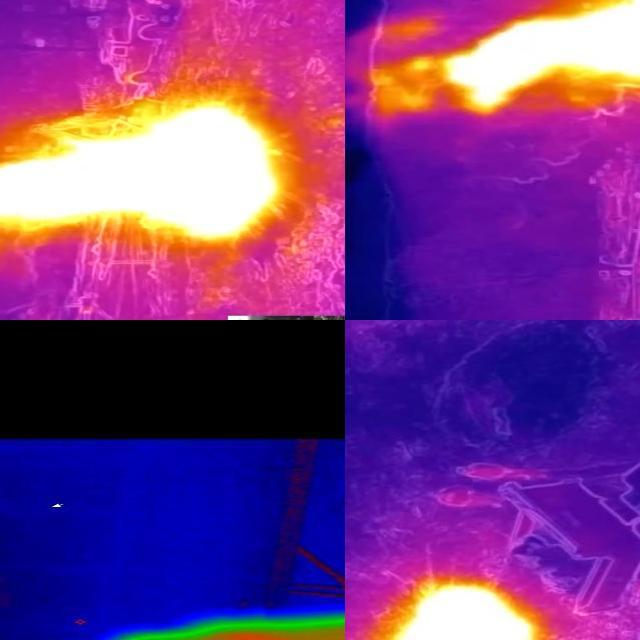fire: (1, 100, 287, 241), (439, 1, 640, 114), (348, 573, 554, 640)
